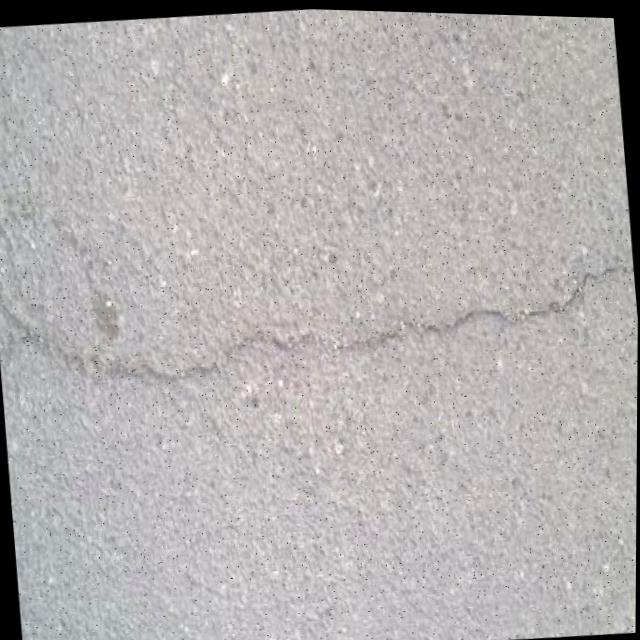Crack: (0, 215, 639, 440)
